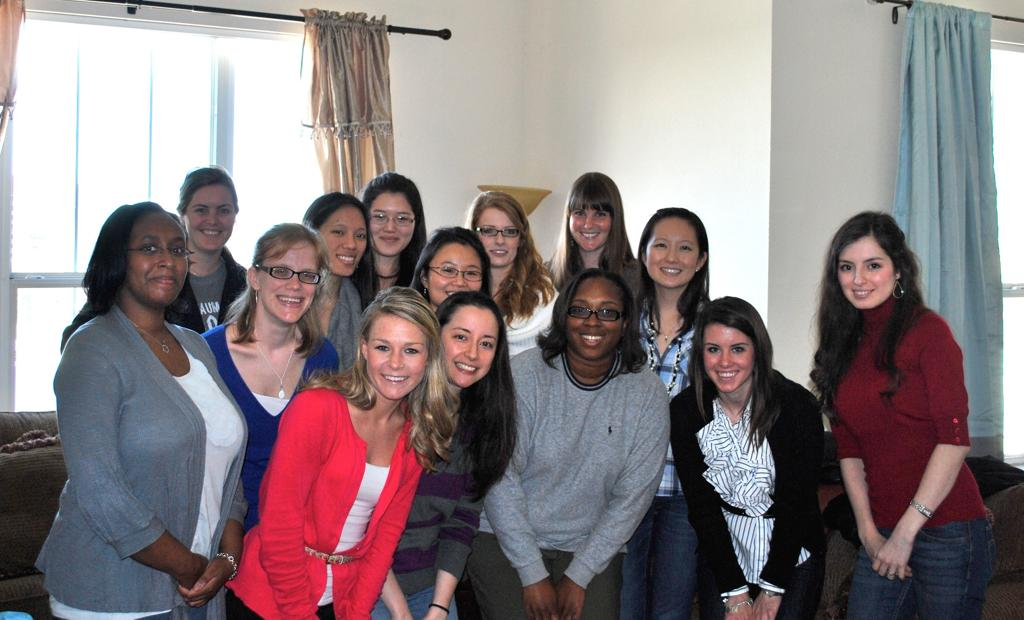face: (127, 213, 188, 305), (366, 313, 428, 399), (258, 241, 318, 323), (438, 304, 498, 386), (567, 278, 623, 360), (838, 237, 895, 307), (646, 217, 698, 287), (703, 323, 755, 392), (428, 242, 482, 308), (317, 206, 367, 274), (184, 185, 235, 250), (368, 192, 414, 255), (477, 206, 519, 266), (569, 191, 611, 251)
